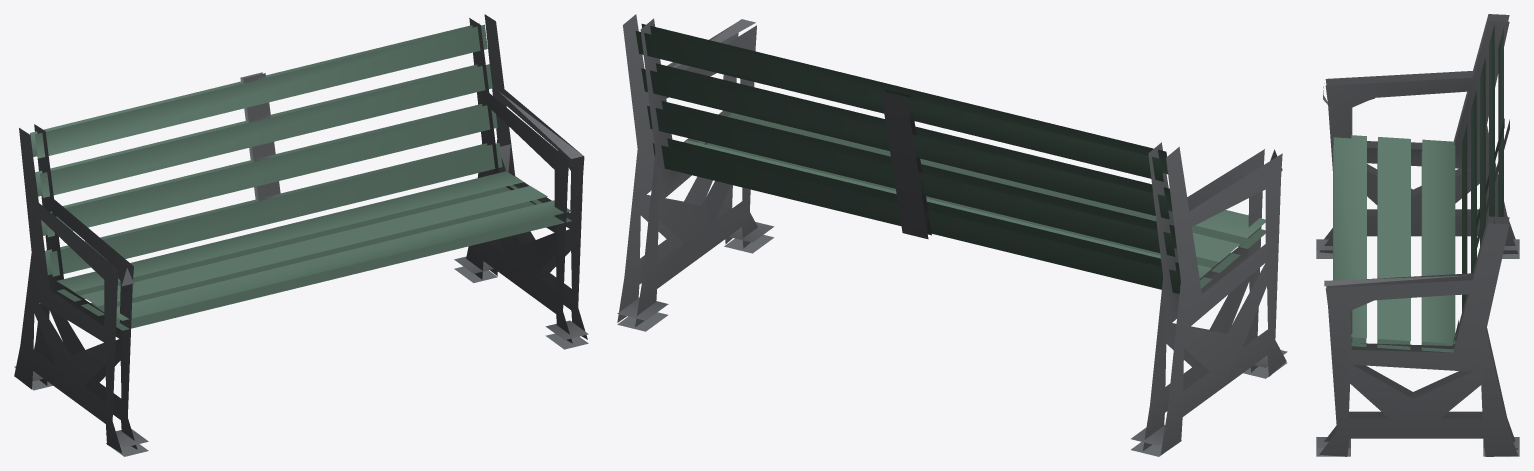
The model's file is bench.lod.glb.
3 views of the same model, side by side, from view 1: azimuth 30°, elevation 25°; view 2: azimuth 150°, elevation 25°; view 3: azimuth 270°, elevation 25° (orthographic). The views are drawn at different scales.
Parts seen in each view (by area): view 1: bench.001; view 2: bench.001; view 3: bench.001.
Part boxes in pixels (x1,y1,x2,y2): bench.001: [14, 14, 588, 456]; bench.001: [617, 14, 1287, 456]; bench.001: [1316, 14, 1519, 456].
Size of the model in its own units: 1.8 by 0.925 by 0.7295.
